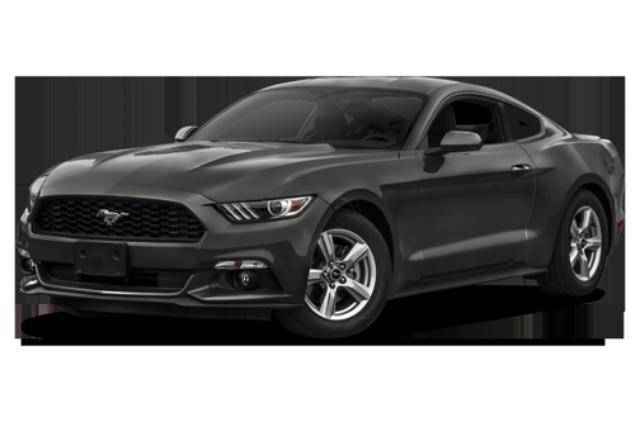ford-mustang: (14, 75, 626, 341)
